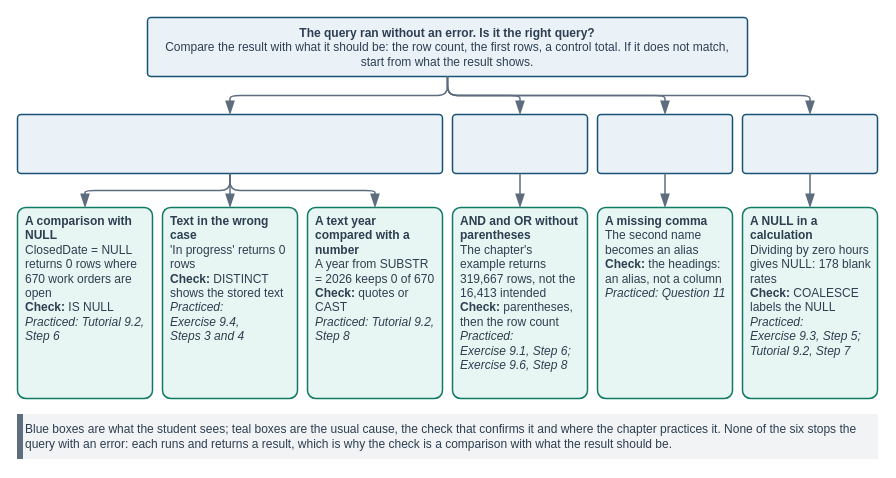
This 896x478 diagram has some shape labels left out. The shapes that lost their labels are listed below. From the top down, each one's centre as x and y in pixels, then its label:
(229,143): The result has no rows The pane reports 0 rows returned
(519,143): Far too many rows More than the count you expect
(664,143): One column, not two Two names were written
(809,143): Blank cells Where numbers belong
